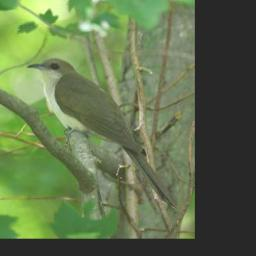Cuckoo: (26, 57, 179, 211)
